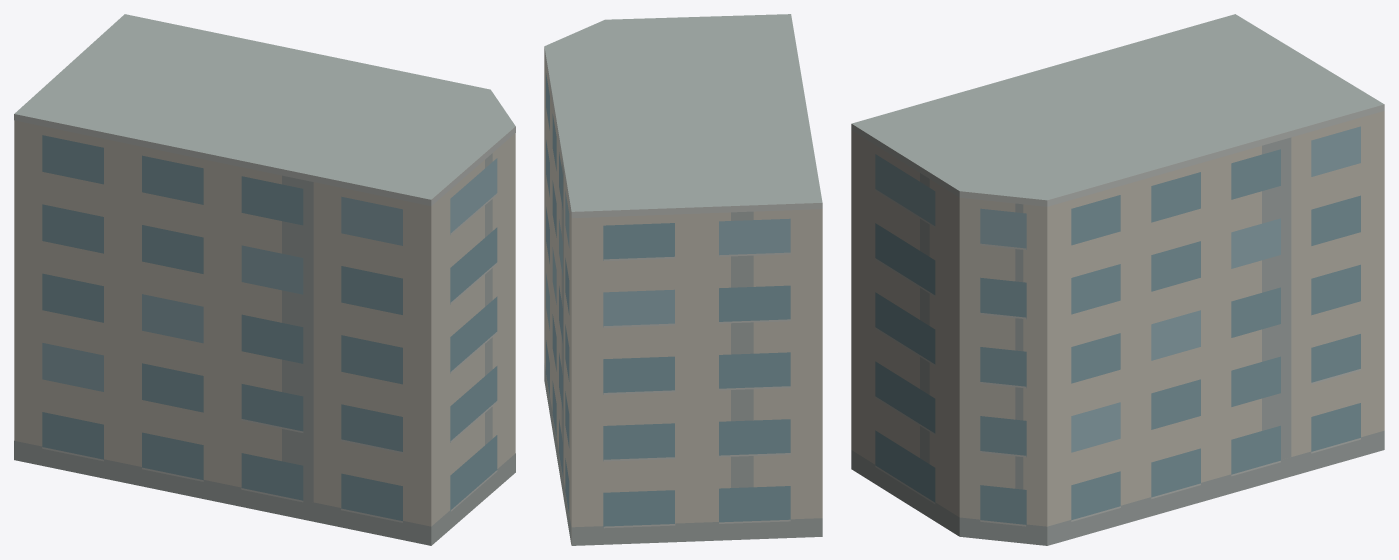
Rendered from survey-upis-32945317.glb.
3 views of the same model, side by side, from view 1: azimuth 30°, elevation 25°; view 2: azimuth 150°, elevation 25°; view 3: azimuth 270°, elevation 25° (orthographic). The views are drawn at different scales.
Visible parts, largest first — view 1: survey-upis-32945317.tmp; view 2: survey-upis-32945317.tmp; view 3: survey-upis-32945317.tmp.
Part boxes in pixels (box(x1,y1,x2,y2)): survey-upis-32945317.tmp: box(14, 14, 515, 545); survey-upis-32945317.tmp: box(544, 14, 822, 545); survey-upis-32945317.tmp: box(851, 14, 1384, 545).
Size of the model in its own units: 15.04 by 13 by 18.19.
